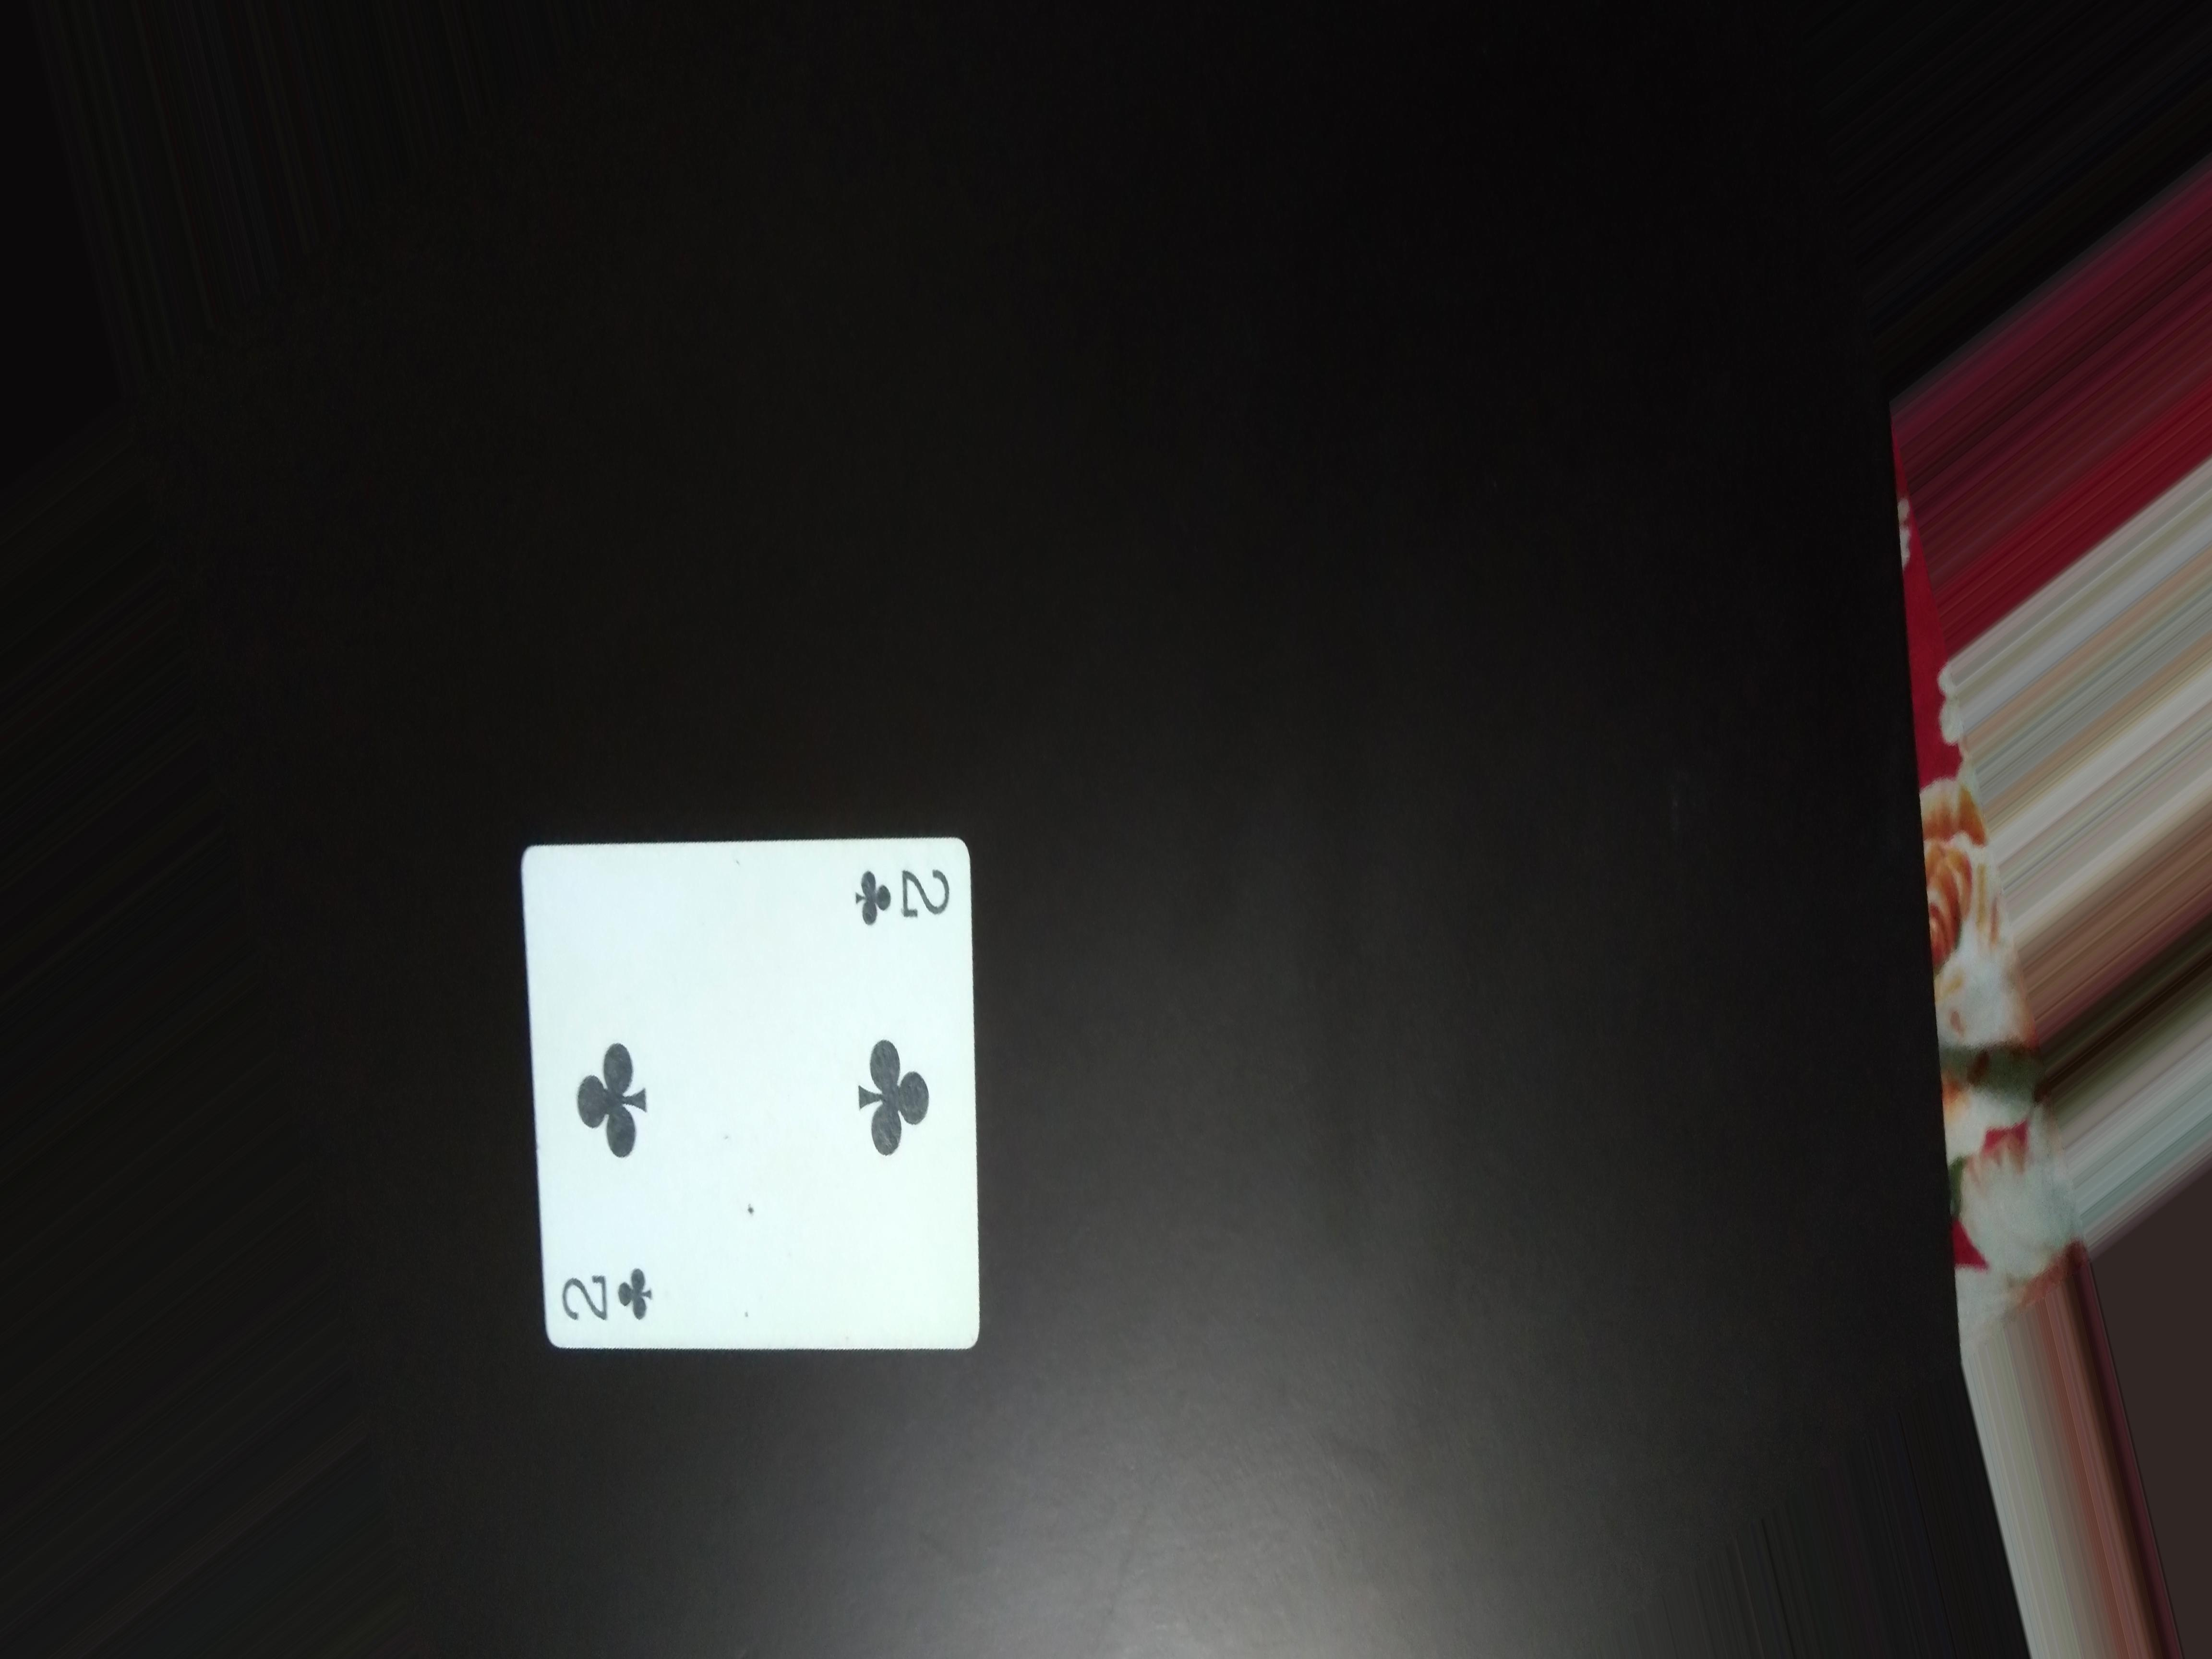2C: (834, 847, 954, 941)
